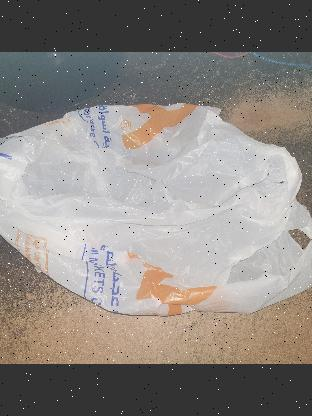Others: (0, 91, 312, 327)
